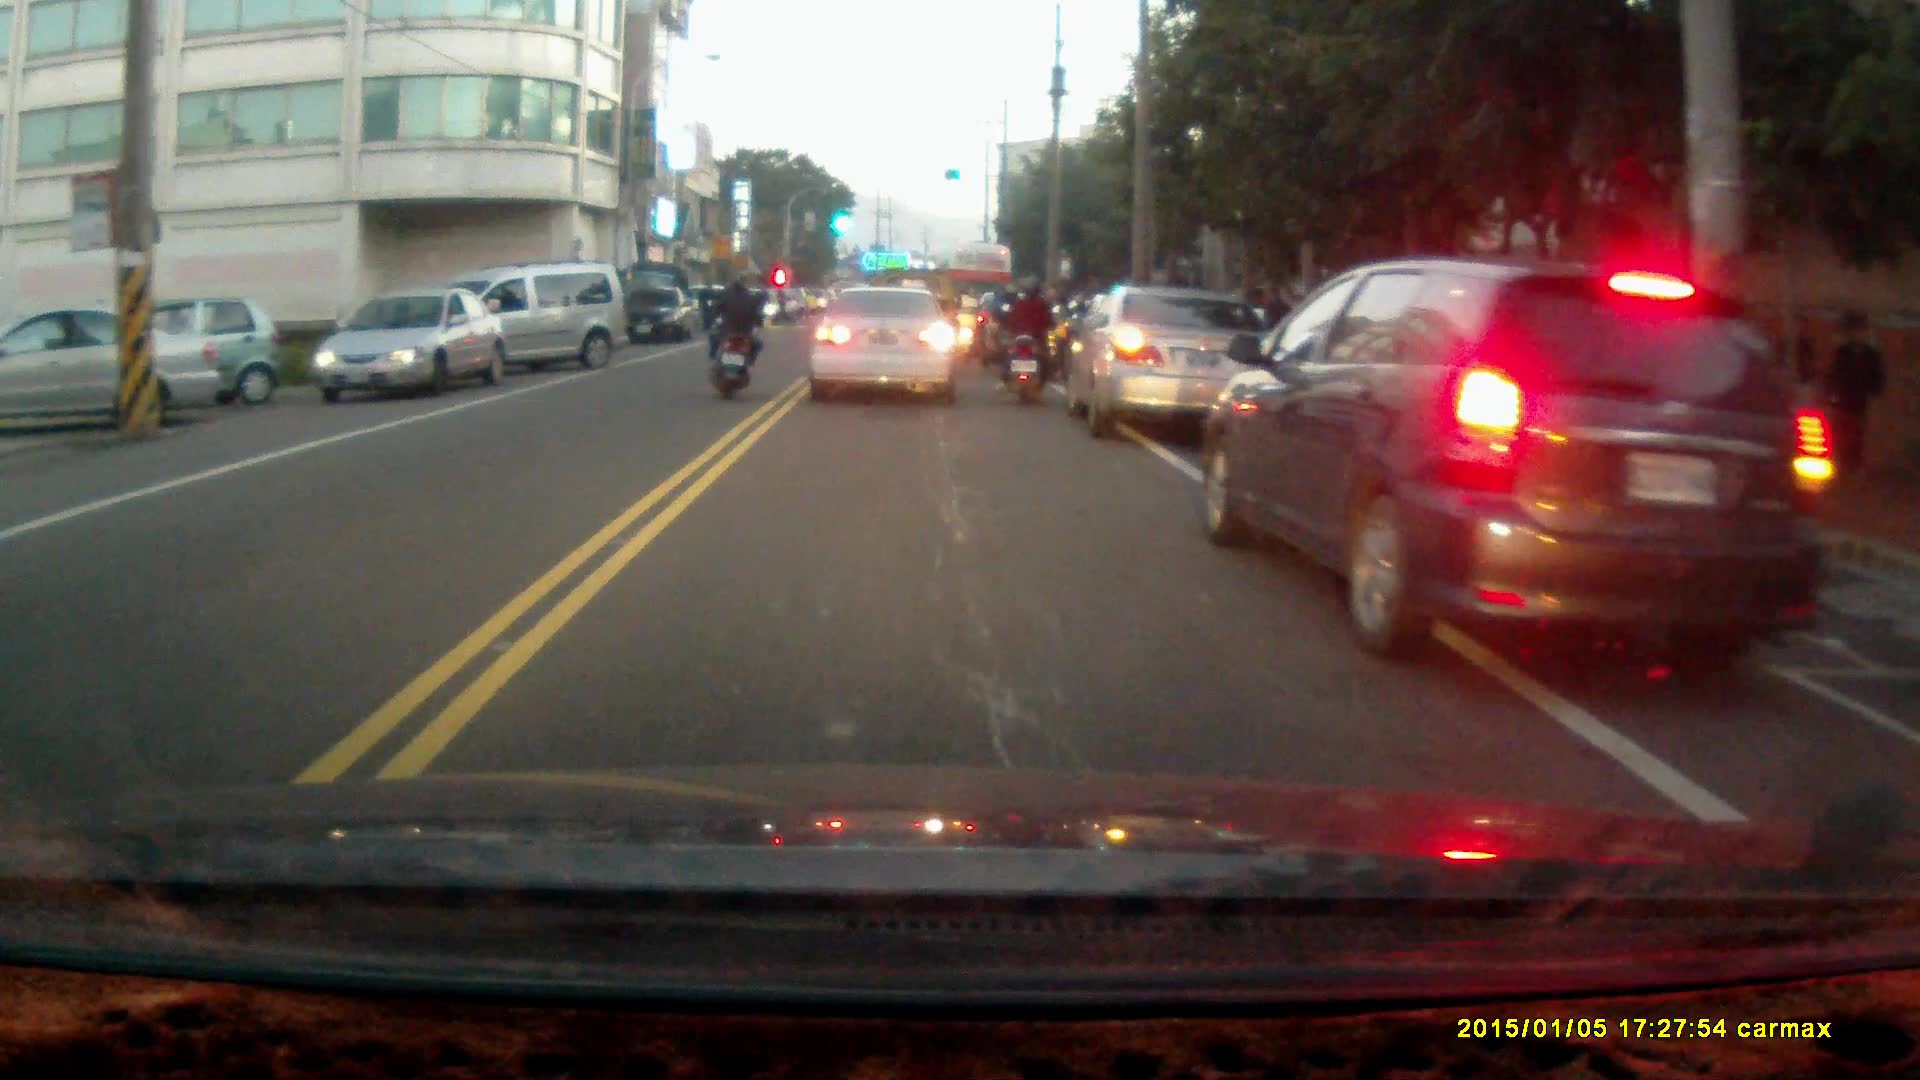pedestrian: (1828, 310, 1880, 472), (1770, 308, 1816, 446)
rider: (995, 270, 1062, 406), (703, 273, 764, 397)
vehicle: (1201, 252, 1842, 665), (1062, 281, 1280, 433), (1, 307, 229, 435), (405, 261, 627, 385), (53, 296, 281, 412), (309, 289, 507, 402), (805, 285, 964, 403), (619, 286, 689, 347)
